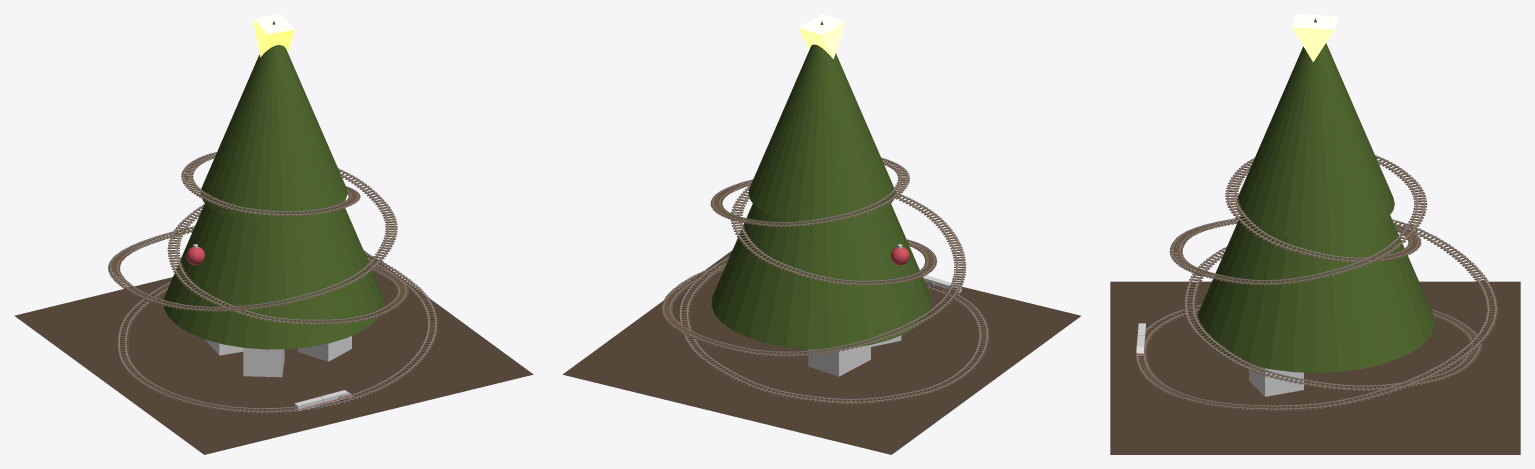
Rendered from ChristmasTrain2.gltf.
The picture shows the model from 3 angles, left to right: view 1: azimuth 30°, elevation 25°; view 2: azimuth 150°, elevation 25°; view 3: azimuth 270°, elevation 25°; orthographic projection. The views are drawn at different scales.
Visible parts, largest first — view 1: Ground, Thee_Base, Thee_Base.001, Tacks_Plank, Rail_Iorn, Rail_Iorn.001, Dwarf_Tri, Cube.002, Cube.001, Drawf_Train_Mocuup; view 2: Ground, Thee_Base, Thee_Base.001, Tacks_Plank, Rail_Iorn, Rail_Iorn.001, Cube, Dwarf_Tri; view 3: Ground, Thee_Base, Thee_Base.001, Tacks_Plank, Rail_Iorn, Rail_Iorn.001, Dwarf_Tri, Cube.001.
Part boxes in pixels (<box>): Ground: <box>14,250,533,454</box>; Thee_Base: <box>163,204,384,349</box>; Thee_Base.001: <box>200,21,347,223</box>; Tacks_Plank: <box>108,152,438,413</box>; Rail_Iorn: <box>109,152,436,412</box>; Rail_Iorn.001: <box>116,156,429,409</box>; Dwarf_Tri: <box>253,14,294,57</box>; Cube.002: <box>243,347,284,377</box>; Cube.001: <box>297,336,351,361</box>; Drawf_Train_Mocuup: <box>294,390,353,412</box>; Ground: <box>563,250,1080,454</box>; Thee_Base: <box>711,203,932,349</box>; Thee_Base.001: <box>748,21,895,223</box>; Tacks_Plank: <box>661,158,989,403</box>; Rail_Iorn: <box>662,158,988,402</box>; Rail_Iorn.001: <box>669,162,981,400</box>; Cube: <box>808,345,870,376</box>; Dwarf_Tri: <box>798,14,845,58</box>; Ground: <box>1110,281,1520,454</box>; Thee_Base: <box>1196,215,1434,372</box>; Thee_Base.001: <box>1237,18,1394,237</box>; Tacks_Plank: <box>1134,155,1498,410</box>; Rail_Iorn: <box>1136,155,1496,409</box>; Rail_Iorn.001: <box>1144,160,1489,406</box>; Dwarf_Tri: <box>1292,14,1338,61</box>; Cube.001: <box>1249,365,1303,396</box>.
Bounding box in the file's own units: 40 × 37.71 × 40.
Materials: 10 (1 with a texture image).
